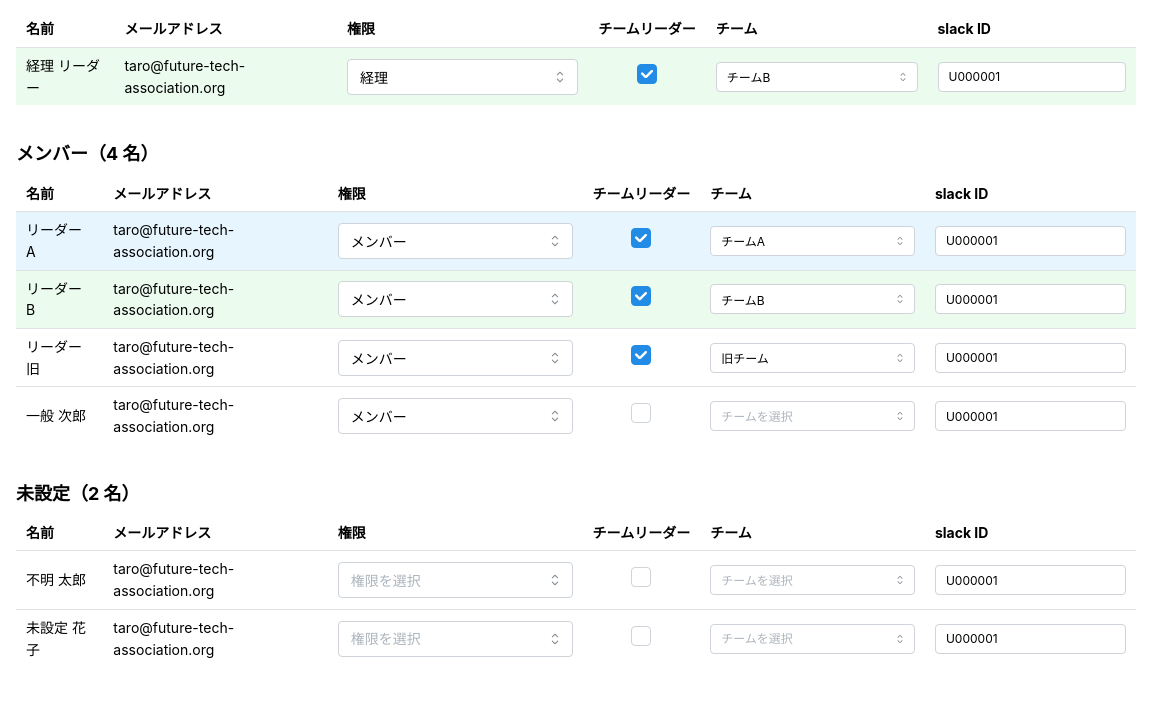
Test: UserList › PC（テーブル）: 権限ごとのセクションとチーム色 › 権限が未設定の行も、権限を選んだだけでは「未設定」セクションに残り、保存に成功したら移る
(page scrolled)
What coordinates should you click on to do the following:
click the field named "未設定 花子の権限"
I would click on:
 (455, 638)
Its box is x1=338 y1=620 x2=573 y2=656.
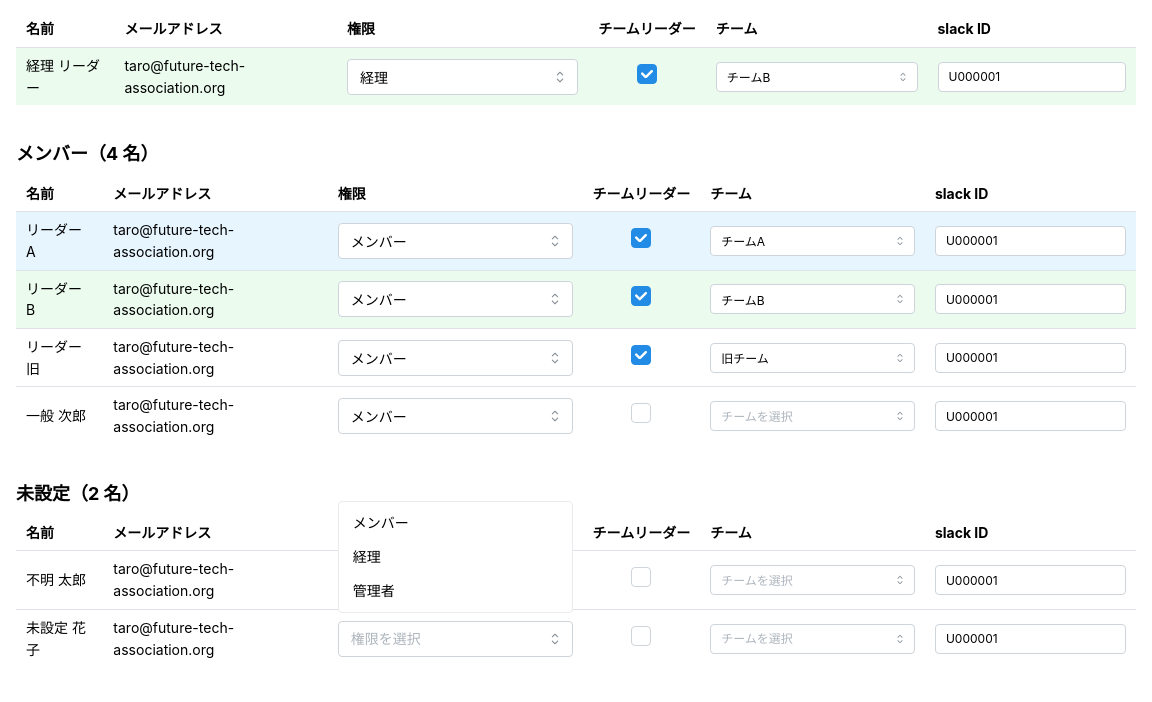
What coordinates should you click on to do the following:
click the option "メンバー"
I would click on:
 (381, 523)
Its box is x1=353 y1=514 x2=409 y2=532.
(page scrolled)
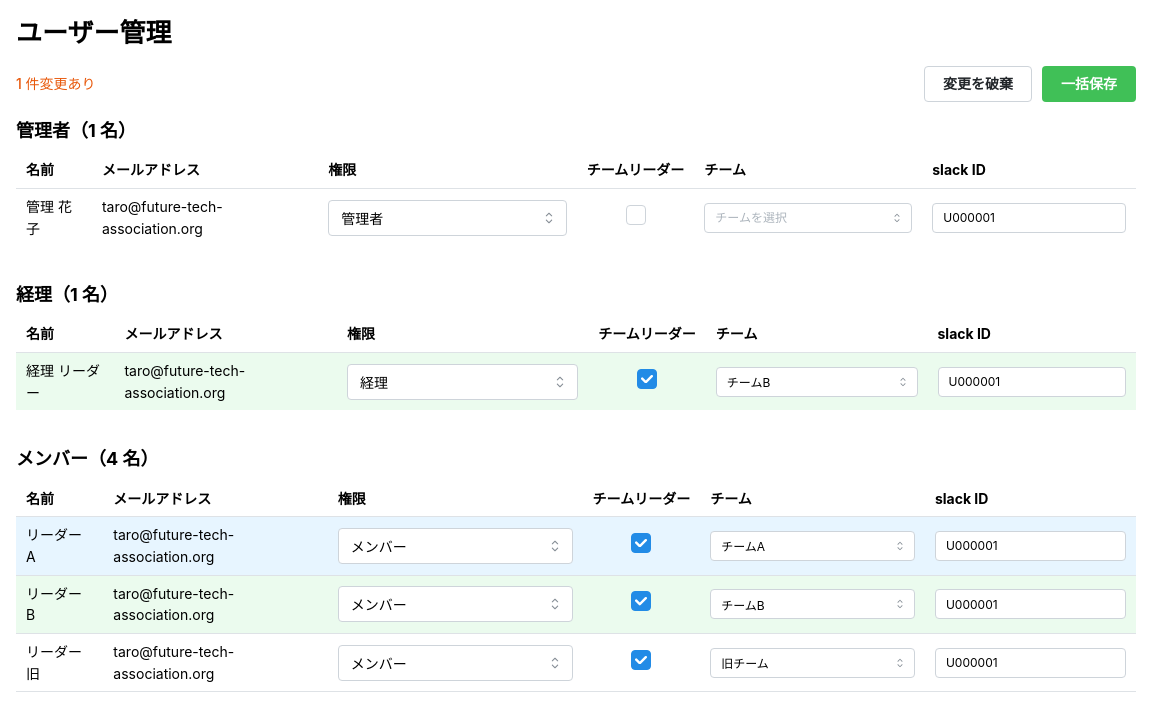
Expected: the heading "メンバー（4 名）" is shown, x1=16 y1=448 x2=158 y2=469
What coordinates should you click on to do the following:
click the button "一括保存"
I would click on:
 (1089, 84)
Its box is x1=1042 y1=66 x2=1136 y2=102.
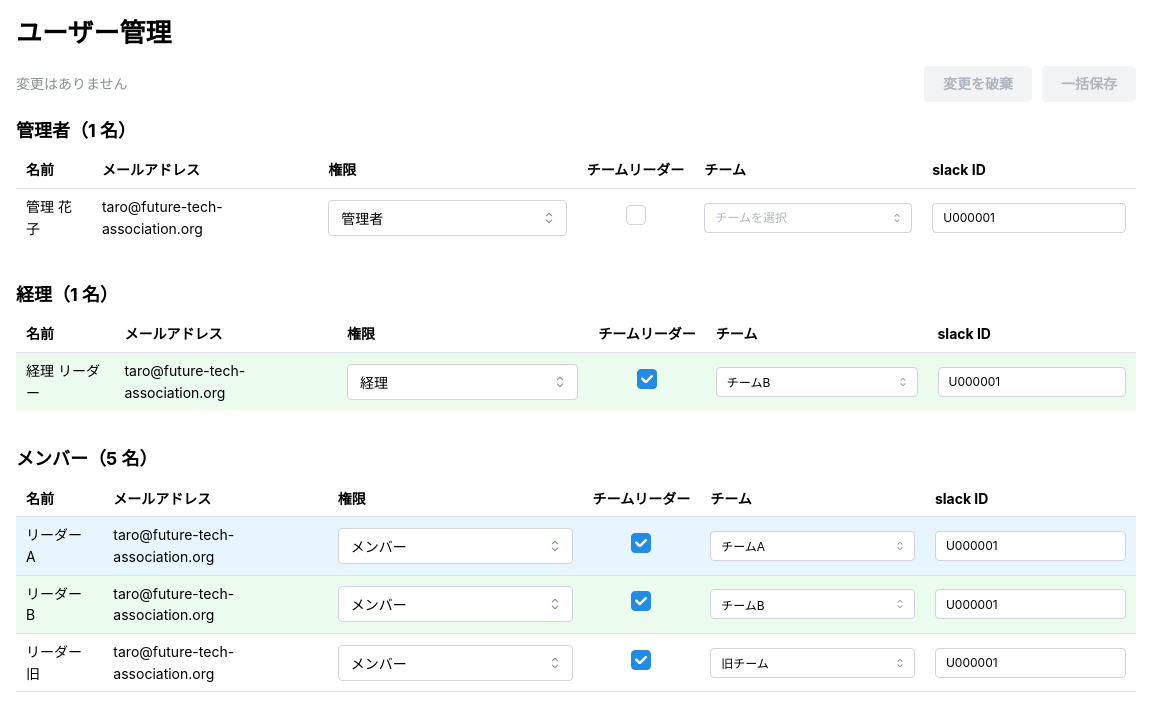
Expected: the heading "メンバー（5 名）" is shown, x1=16 y1=448 x2=158 y2=469
